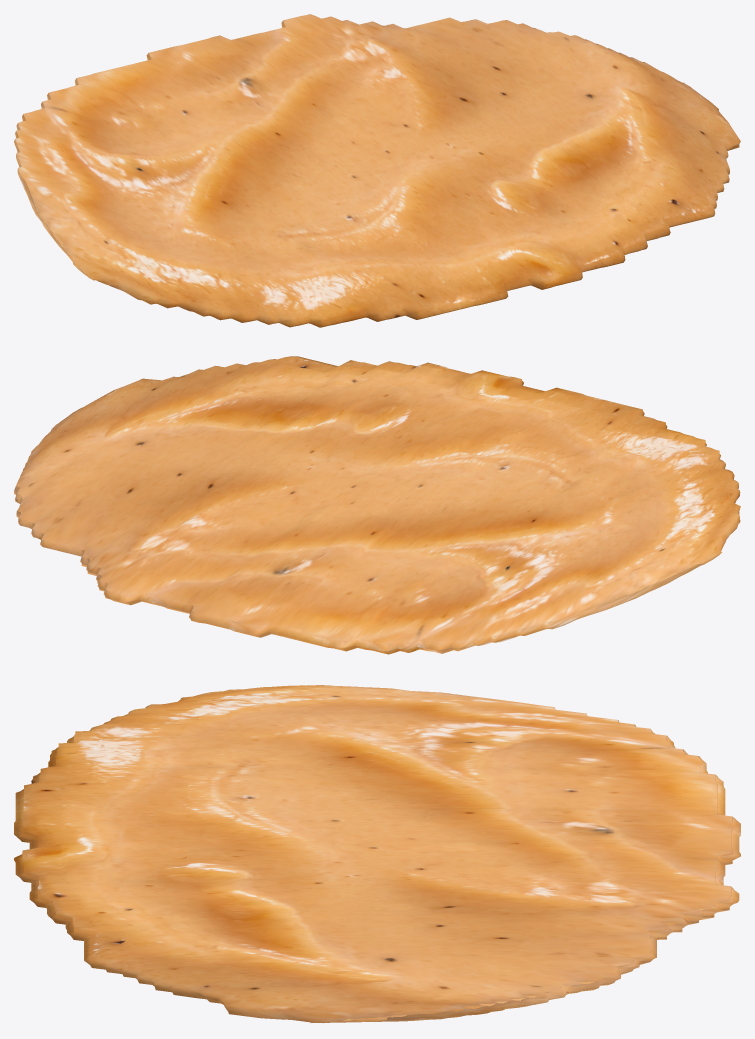
Rendered from house-sauce.glb.
3 renders of one model, top to bottom at view 1: azimuth 30°, elevation 25°; view 2: azimuth 150°, elevation 25°; view 3: azimuth 270°, elevation 25°, orthographic. The views are drawn at different scales.
Parts seen in each view (by area): view 1: house-sauce; view 2: house-sauce; view 3: house-sauce.
Boxes of the visible parts, x1=… form: house-sauce: x1=14, y1=14, x2=740, y2=327; house-sauce: x1=14, y1=356, x2=740, y2=654; house-sauce: x1=14, y1=685, x2=740, y2=1023.
Size of the model in its own units: 0.86 by 0.031 by 0.78.
Materials: 1 (1 with a texture image).
